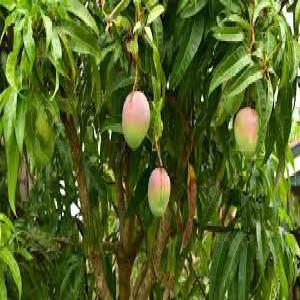Tree: (2, 2, 299, 296)
